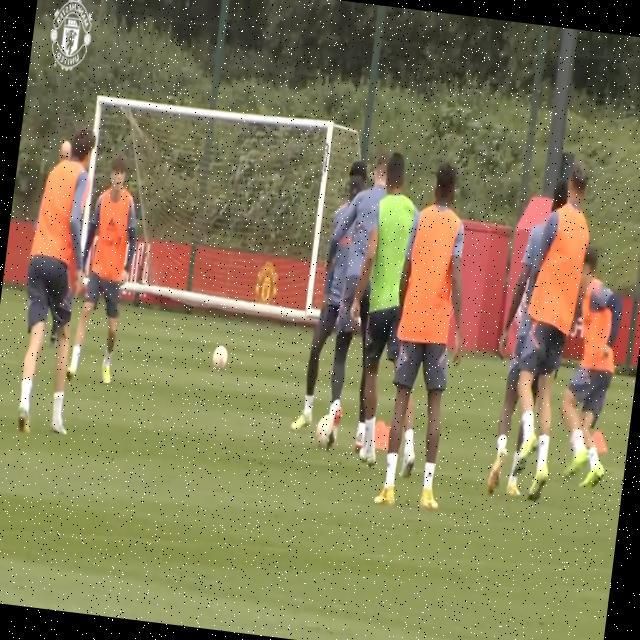Adidas: (105, 215, 118, 234)
